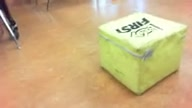cube: (97, 11, 187, 95)
